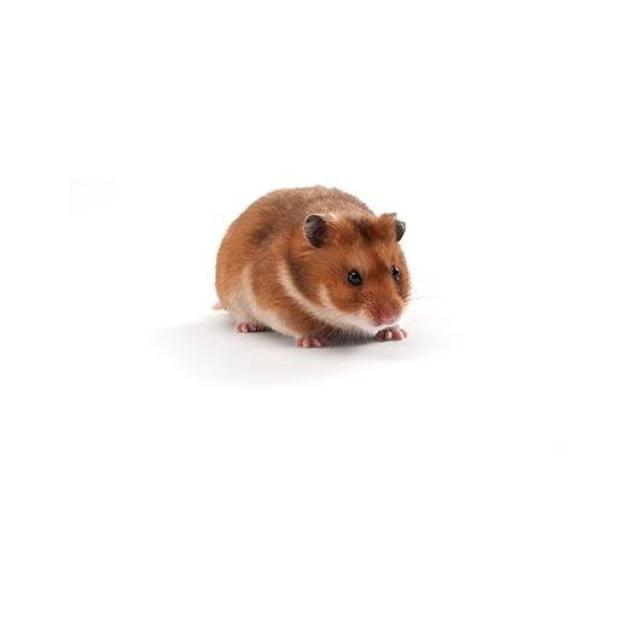hamster: (224, 200, 410, 370)
